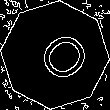O_SW: (22, 22, 88, 88)
